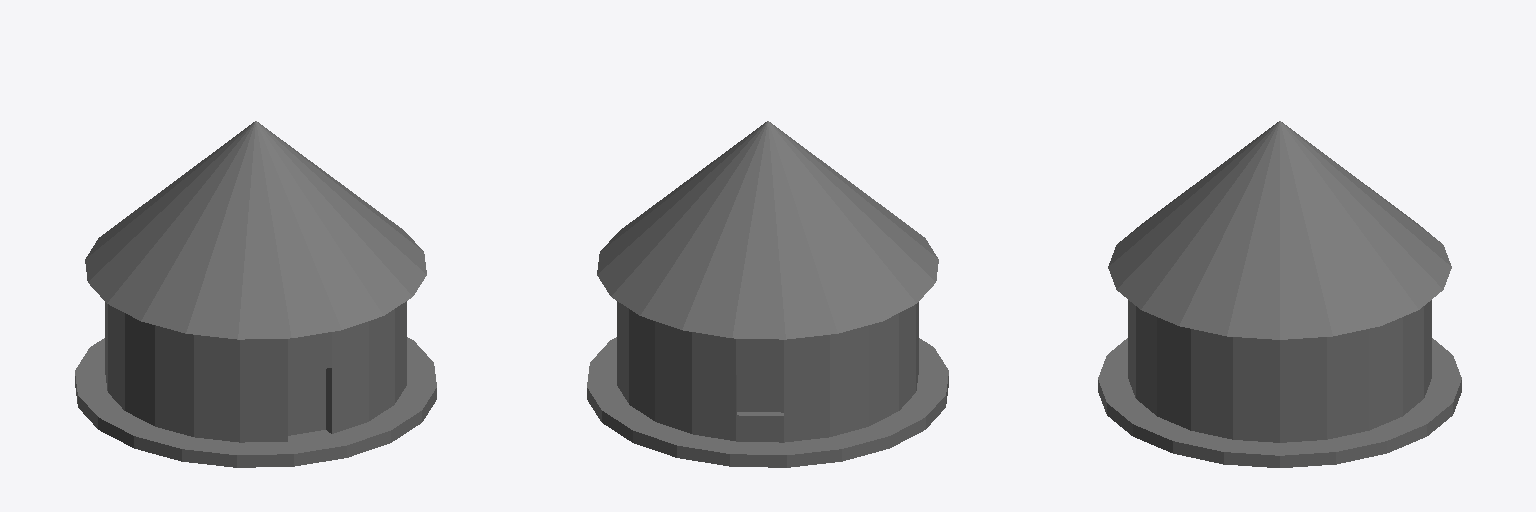
3 renders of one model, left to right at view 1: azimuth 30°, elevation 25°; view 2: azimuth 150°, elevation 25°; view 3: azimuth 270°, elevation 25°, orthographic.
Parts seen in each view (by area): view 1: Cylinder:group5 Cylinder:group6 Cylinder:pCone1 Cylinder:polySur, Cylinder:group5 Cylinder:group6 Cylinder:pCylinder1 Cylinder:pol; view 2: Cylinder:group5 Cylinder:group6 Cylinder:pCone1 Cylinder:polySur, Cylinder:group5 Cylinder:group6 Cylinder:pCylinder1 Cylinder:pol; view 3: Cylinder:group5 Cylinder:group6 Cylinder:pCone1 Cylinder:polySur, Cylinder:group5 Cylinder:group6 Cylinder:pCylinder1 Cylinder:pol.
Part boxes in pixels (bbox=[...]): Cylinder:group5 Cylinder:group6 Cylinder:pCone1 Cylinder:polySur: bbox=[85, 121, 426, 339]; Cylinder:group5 Cylinder:group6 Cylinder:pCylinder1 Cylinder:pol: bbox=[75, 301, 436, 467]; Cylinder:group5 Cylinder:group6 Cylinder:pCone1 Cylinder:polySur: bbox=[597, 121, 938, 339]; Cylinder:group5 Cylinder:group6 Cylinder:pCylinder1 Cylinder:pol: bbox=[587, 301, 948, 467]; Cylinder:group5 Cylinder:group6 Cylinder:pCone1 Cylinder:polySur: bbox=[1108, 121, 1451, 339]; Cylinder:group5 Cylinder:group6 Cylinder:pCylinder1 Cylinder:pol: bbox=[1098, 300, 1461, 467].
Bounding box in the file's own units: 5.41 × 4.44 × 5.41.